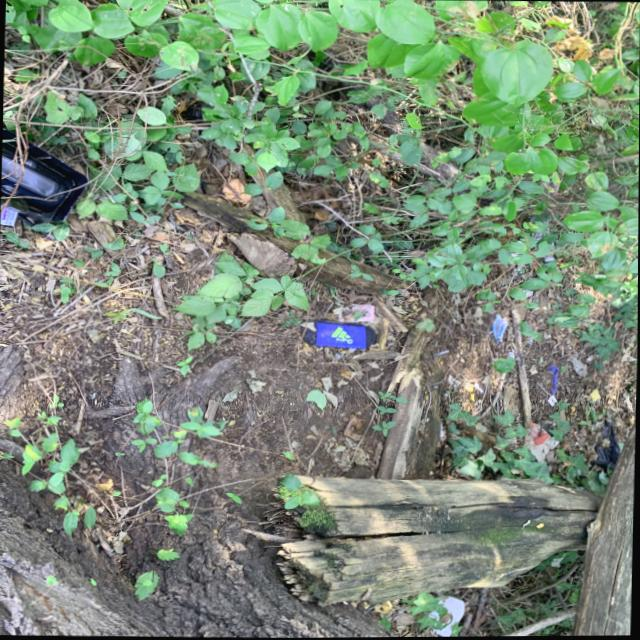Paper: (428, 594, 468, 637), (522, 426, 550, 454), (489, 314, 509, 342), (589, 388, 602, 402)
Plastic: (0, 120, 93, 228), (294, 320, 385, 350), (334, 303, 378, 321), (549, 363, 559, 393), (472, 382, 486, 394), (548, 394, 556, 406)
